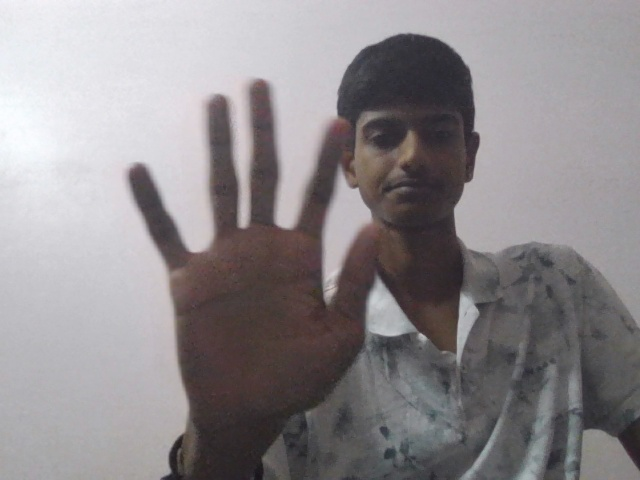hello: (121, 77, 385, 480)
